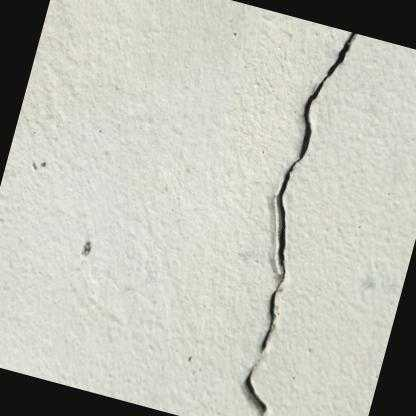crack: (235, 30, 361, 416)
